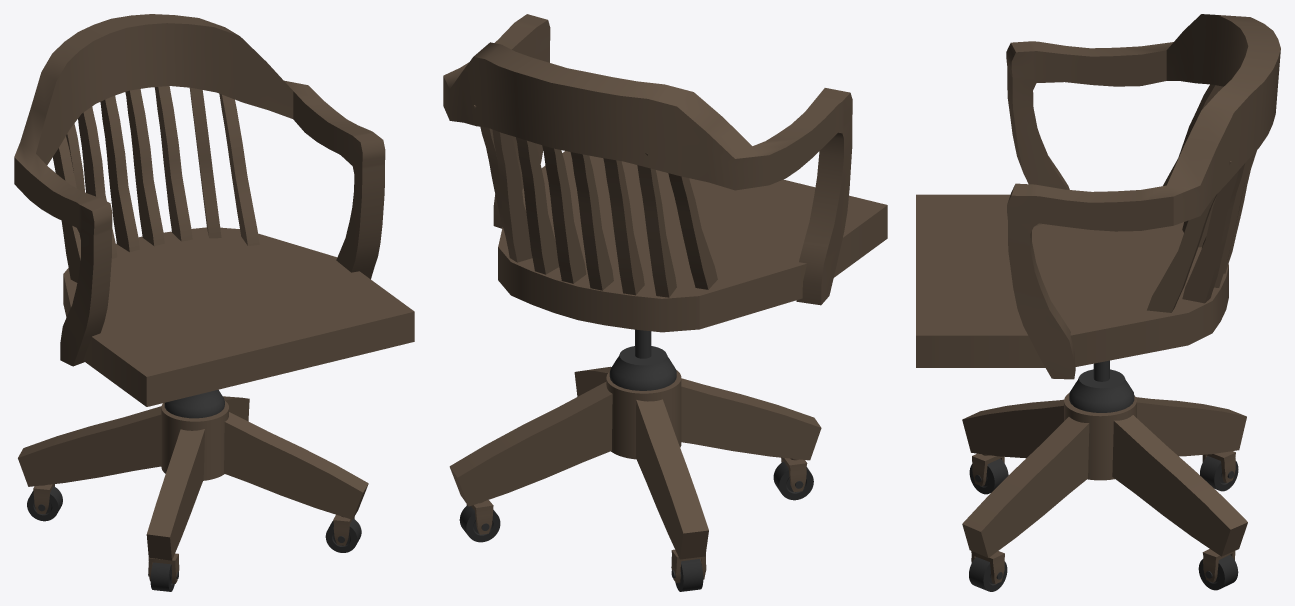
The model's file is PD_WoodenRolleyChair_06_DF.fbx.
3 renders of one model, left to right at view 1: azimuth 30°, elevation 25°; view 2: azimuth 150°, elevation 25°; view 3: azimuth 270°, elevation 25°, orthographic. The views are drawn at different scales.
Parts seen in each view (by area): view 1: WoodenRolleyChair; view 2: WoodenRolleyChair; view 3: WoodenRolleyChair.
Boxes of the visible parts, <box> form: WoodenRolleyChair: <box>14,14,414,591</box>; WoodenRolleyChair: <box>443,14,887,591</box>; WoodenRolleyChair: <box>916,14,1280,591</box>.
Bounding box in the file's own units: 0.6541 × 0.9663 × 0.6503.
